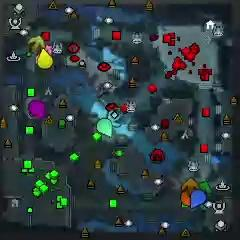p1: (191, 190, 207, 209)
p2: (97, 118, 113, 137)
p3: (30, 100, 45, 119)
p4: (38, 49, 52, 69)
p5: (180, 191, 192, 206)
x1: (45, 43, 55, 58)
x2: (28, 36, 45, 52)
x3: (107, 108, 124, 128)
x4: (199, 180, 211, 194)
x5: (181, 177, 199, 195)
